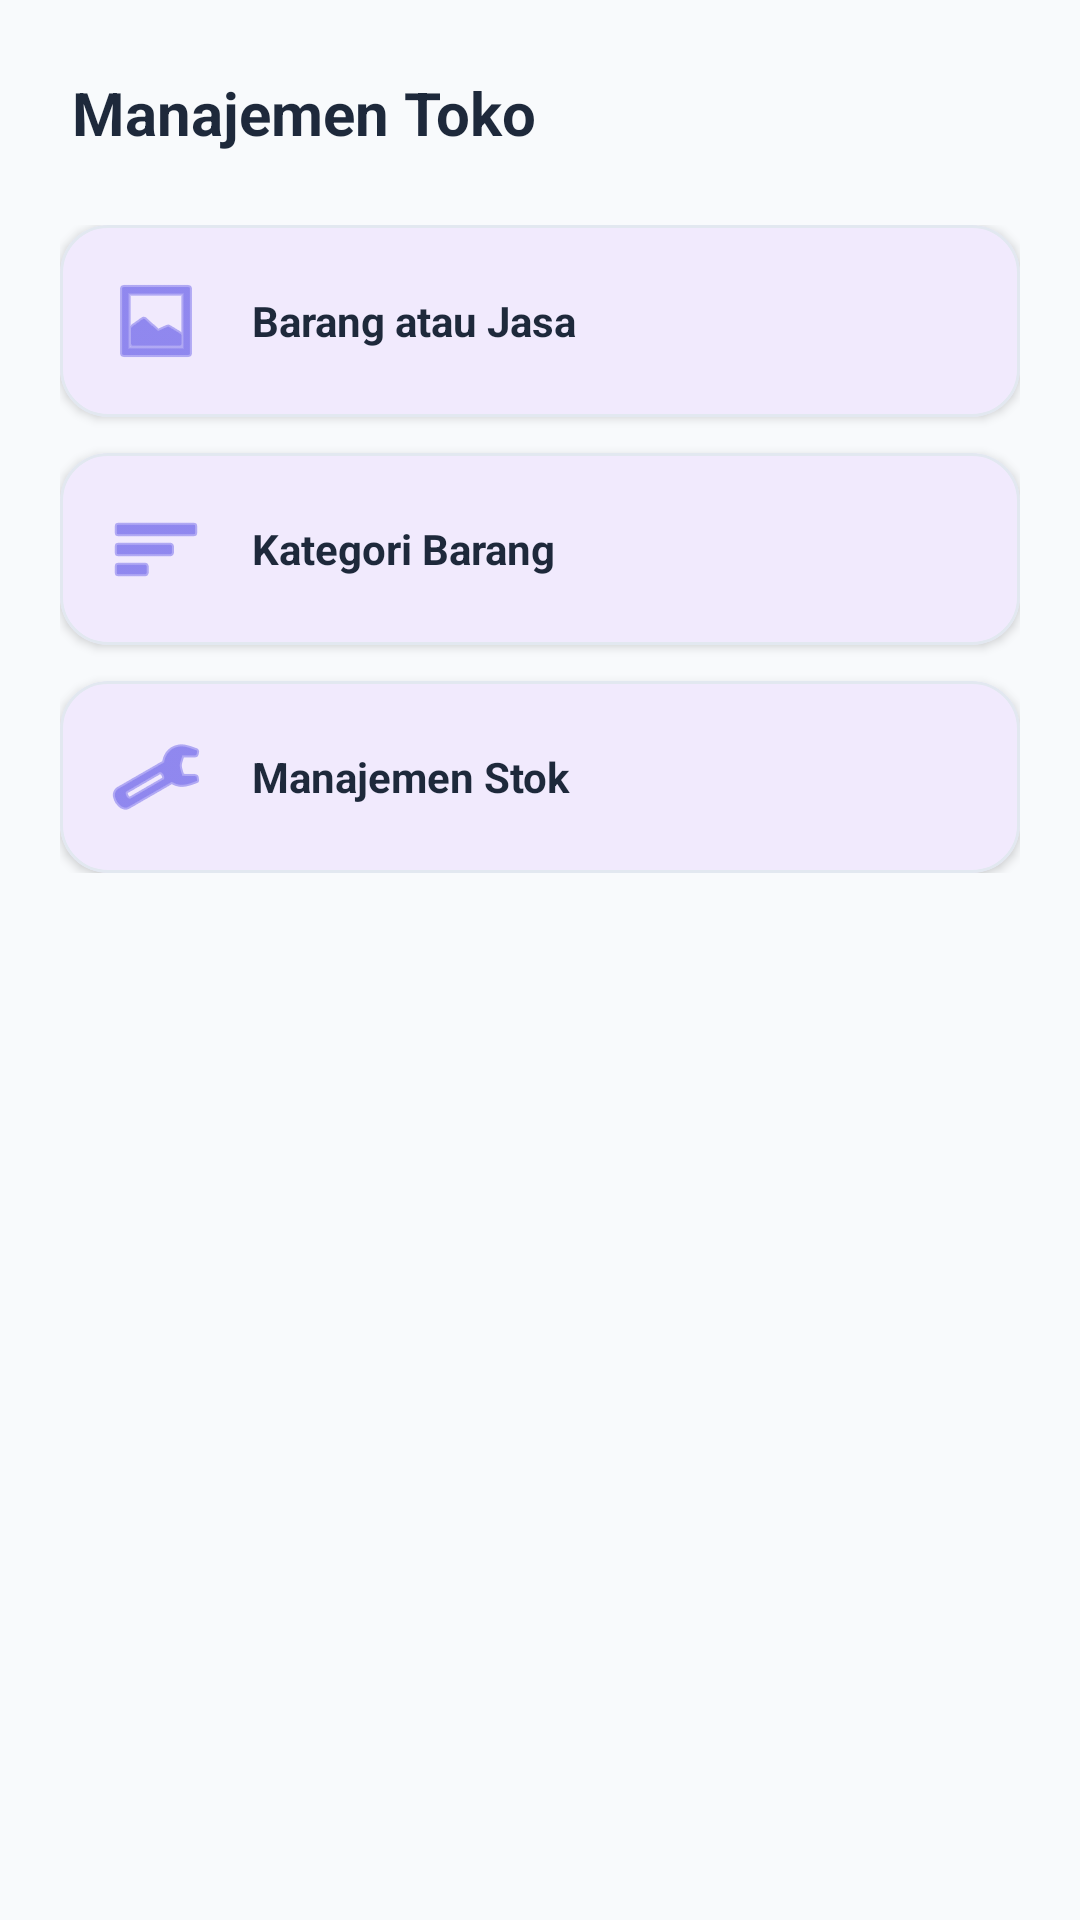

Where to tap for icons on this 1080 × 1920 app screen, as (x,y):
gallery: (156,321)
manage: (156,777)
sort by size: (156,549)
